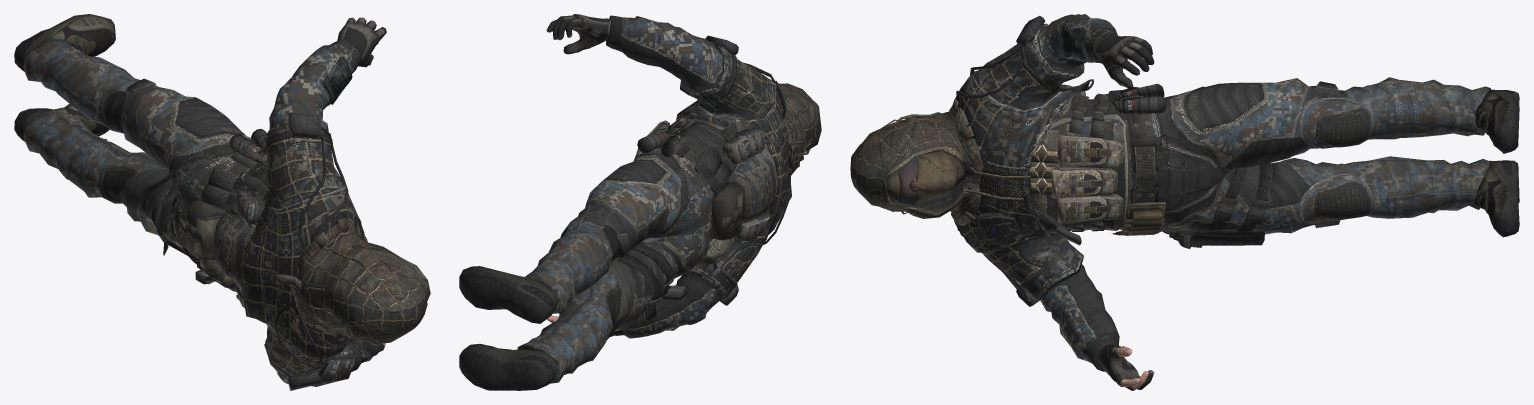
The model's file is c_usa_mp_seal6_sniper_fb_LOD0.obj.
The picture shows the model from 3 angles, left to right: view 1: azimuth 30°, elevation 25°; view 2: azimuth 150°, elevation 25°; view 3: azimuth 270°, elevation 25°; orthographic projection. The views are drawn at different scales.
Parts seen in each view (by area): view 1: mtl_c_usa_mp_seal6_pants_2, mtl_c_usa_mp_seal6_snip_vest, mtl_c_usa_mp_seal6_snip_head, mtl_c_usa_mp_seal6_gear, mtl_c_usa_mp_seal6_shoes_2, mtl_c_usa_mp_seal6_gloves_2, mtl_c_gen_mp_datapad; view 2: mtl_c_usa_mp_seal6_pants_2, mtl_c_usa_mp_seal6_snip_vest, mtl_c_usa_mp_seal6_shoes_2, mtl_c_usa_mp_seal6_gear, mtl_c_usa_mp_seal6_snip_head, mtl_c_usa_mp_seal6_gloves_2; view 3: mtl_c_usa_mp_seal6_pants_2, mtl_c_usa_mp_seal6_snip_vest, mtl_c_usa_mp_seal6_snip_head, mtl_c_usa_mp_seal6_gear, mtl_c_usa_mp_seal6_shoes_2, mtl_c_usa_mp_seal6_gloves_2, mtl_c_gen_mp_datapad.
Part boxes in pixels (box(x1,y1,x2,y2)): mtl_c_usa_mp_seal6_pants_2: box(23, 40, 350, 376); mtl_c_usa_mp_seal6_snip_vest: box(213, 39, 385, 386); mtl_c_usa_mp_seal6_snip_head: box(263, 189, 430, 344); mtl_c_usa_mp_seal6_gear: box(168, 113, 321, 390); mtl_c_usa_mp_seal6_shoes_2: box(14, 14, 115, 141); mtl_c_usa_mp_seal6_gloves_2: box(337, 17, 386, 362); mtl_c_gen_mp_datapad: box(322, 56, 352, 104); mtl_c_usa_mp_seal6_pants_2: box(517, 62, 791, 383); mtl_c_usa_mp_seal6_snip_vest: box(547, 15, 790, 338); mtl_c_usa_mp_seal6_shoes_2: box(459, 266, 559, 390); mtl_c_usa_mp_seal6_gear: box(637, 35, 742, 314); mtl_c_usa_mp_seal6_snip_head: box(735, 80, 821, 243); mtl_c_usa_mp_seal6_gloves_2: box(546, 14, 610, 54); mtl_c_usa_mp_seal6_pants_2: box(954, 40, 1490, 296); mtl_c_usa_mp_seal6_snip_vest: box(887, 14, 1148, 389); mtl_c_usa_mp_seal6_snip_head: box(850, 95, 1030, 231); mtl_c_usa_mp_seal6_gear: box(1016, 16, 1264, 306); mtl_c_usa_mp_seal6_shoes_2: box(1475, 89, 1519, 237); mtl_c_usa_mp_seal6_gloves_2: box(1096, 34, 1154, 390); mtl_c_gen_mp_datapad: box(1060, 25, 1086, 58).
Size of the model in its own units: 64.25 by 106 by 185.
